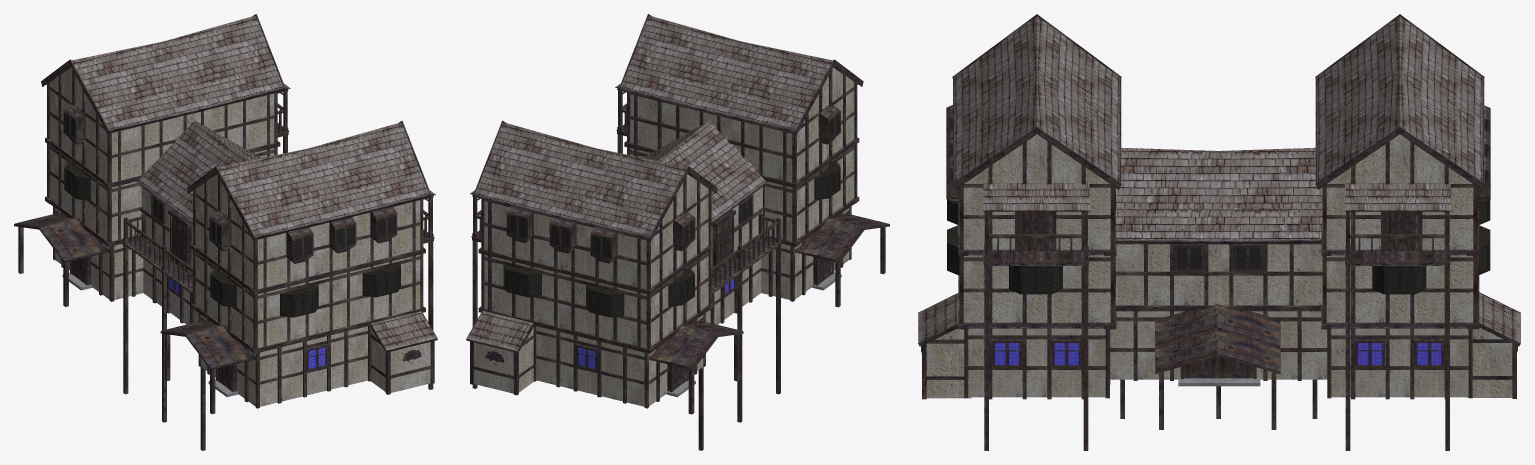
Rendered from hhouse02.dae.
3 renders of one model, left to right at view 1: azimuth 30°, elevation 25°; view 2: azimuth 150°, elevation 25°; view 3: azimuth 270°, elevation 25°, orthographic. The views are drawn at different scales.
Visible parts, largest first — view 1: House2_Roof, House2_Roof_001, House2_Level3_001, House2_Level3, House2_Level2_001, House2_Level1_001, House1_Roof, House2_Level2_Beams_001, House2_Level3_Beams, House2_Level3_Beams_001, House2_Level2, House2_Level1_Beams_001 (+36 smaller); view 2: House2_Roof_001, House2_Roof, House2_Level3, House2_Level3_001, House2_Level2, House2_Level1, House1_Roof, House2_Level2_Beams, House2_Level3_Beams_001, House2_Level3_Beams, House2_Level2_001, House2_Level1_Beams (+36 smaller); view 3: House1_Roof, House2_Roof, House2_Roof_001, House1_Level2, House2_Level3, House2_Level3_001, House2_Level2, House2_Level2_001, House2_Level1, House2_Level1_001, House1_Level1, Roof1Outer_001 (+41 smaller).
Part boxes in pixels (x1=…): House2_Roof: x1=71, y1=15, x2=283, y2=129; House2_Roof_001: x1=217, y1=122, x2=429, y2=236; House2_Level3_001: x1=196, y1=174, x2=420, y2=289; House2_Level3: x1=50, y1=67, x2=274, y2=182; House2_Level2_001: x1=196, y1=252, x2=420, y2=347; House2_Level1_001: x1=201, y1=315, x2=367, y2=406; House1_Roof: x1=138, y1=120, x2=259, y2=221; House2_Level2_Beams_001: x1=193, y1=250, x2=423, y2=349; House2_Level3_Beams: x1=47, y1=70, x2=277, y2=183; House2_Level3_Beams_001: x1=193, y1=176, x2=423, y2=290; House2_Level2: x1=50, y1=147, x2=274, y2=241; House2_Level1_Beams_001: x1=198, y1=313, x2=371, y2=408; House2_Roof_001: x1=621, y1=15, x2=832, y2=129; House2_Roof: x1=475, y1=122, x2=687, y2=236; House2_Level3: x1=484, y1=174, x2=708, y2=289; House2_Level3_001: x1=630, y1=67, x2=854, y2=182; House2_Level2: x1=484, y1=254, x2=708, y2=347; House2_Level1: x1=536, y1=315, x2=703, y2=406; House1_Roof: x1=645, y1=120, x2=765, y2=221; House2_Level2_Beams: x1=481, y1=250, x2=711, y2=349; House2_Level3_Beams_001: x1=627, y1=69, x2=857, y2=183; House2_Level3_Beams: x1=481, y1=176, x2=711, y2=290; House2_Level2_001: x1=630, y1=147, x2=854, y2=241; House2_Level1_Beams: x1=533, y1=313, x2=705, y2=408; House1_Roof: x1=1115, y1=147, x2=1322, y2=240; House2_Roof: x1=1317, y1=16, x2=1482, y2=181; House2_Roof_001: x1=954, y1=16, x2=1119, y2=181; House1_Level2: x1=1115, y1=244, x2=1322, y2=305; House2_Level3: x1=1326, y1=134, x2=1473, y2=249; House2_Level3_001: x1=963, y1=134, x2=1110, y2=249; House2_Level2: x1=1326, y1=255, x2=1473, y2=322; House2_Level2_001: x1=963, y1=255, x2=1110, y2=322; House2_Level1: x1=1331, y1=328, x2=1468, y2=397; House2_Level1_001: x1=968, y1=328, x2=1105, y2=397; House1_Level1: x1=1110, y1=311, x2=1327, y2=379; Roof1Outer_001: x1=1155, y1=327, x2=1279, y2=371.
Bounding box in the file's own units: 12.13 × 19.7 × 14.09.
28 materials, 28 textured.
